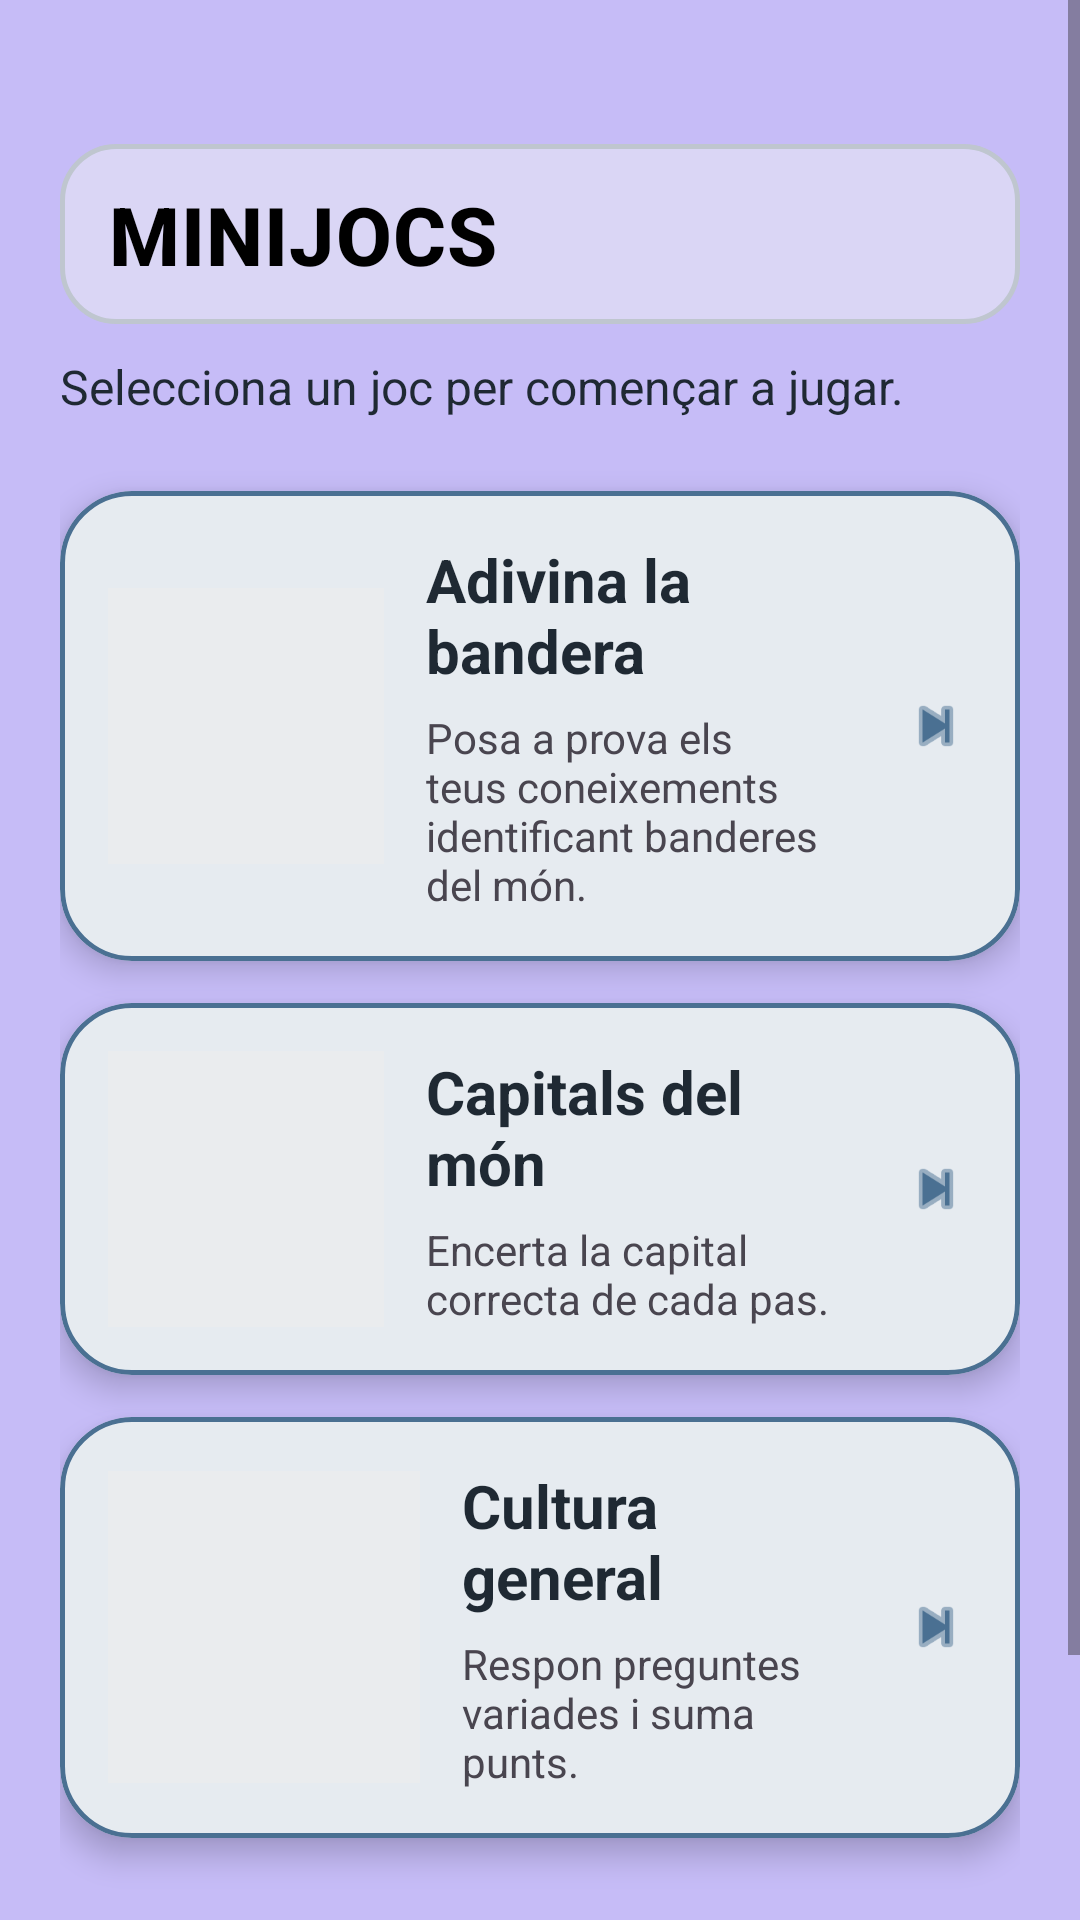

Where to tap for icons on this 1080 x 1920 app screen, as (x,y):
next: (936,726), (936,1189), (936,1627)
